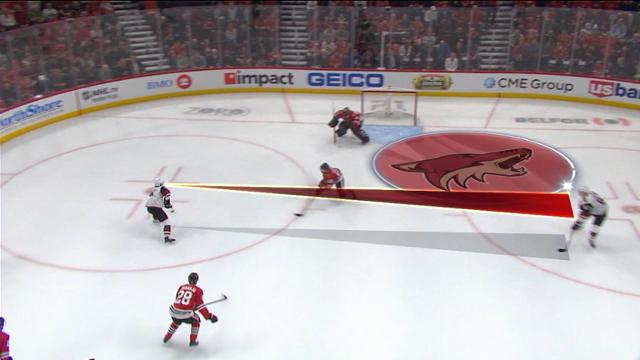geico: (306, 67, 385, 91)
